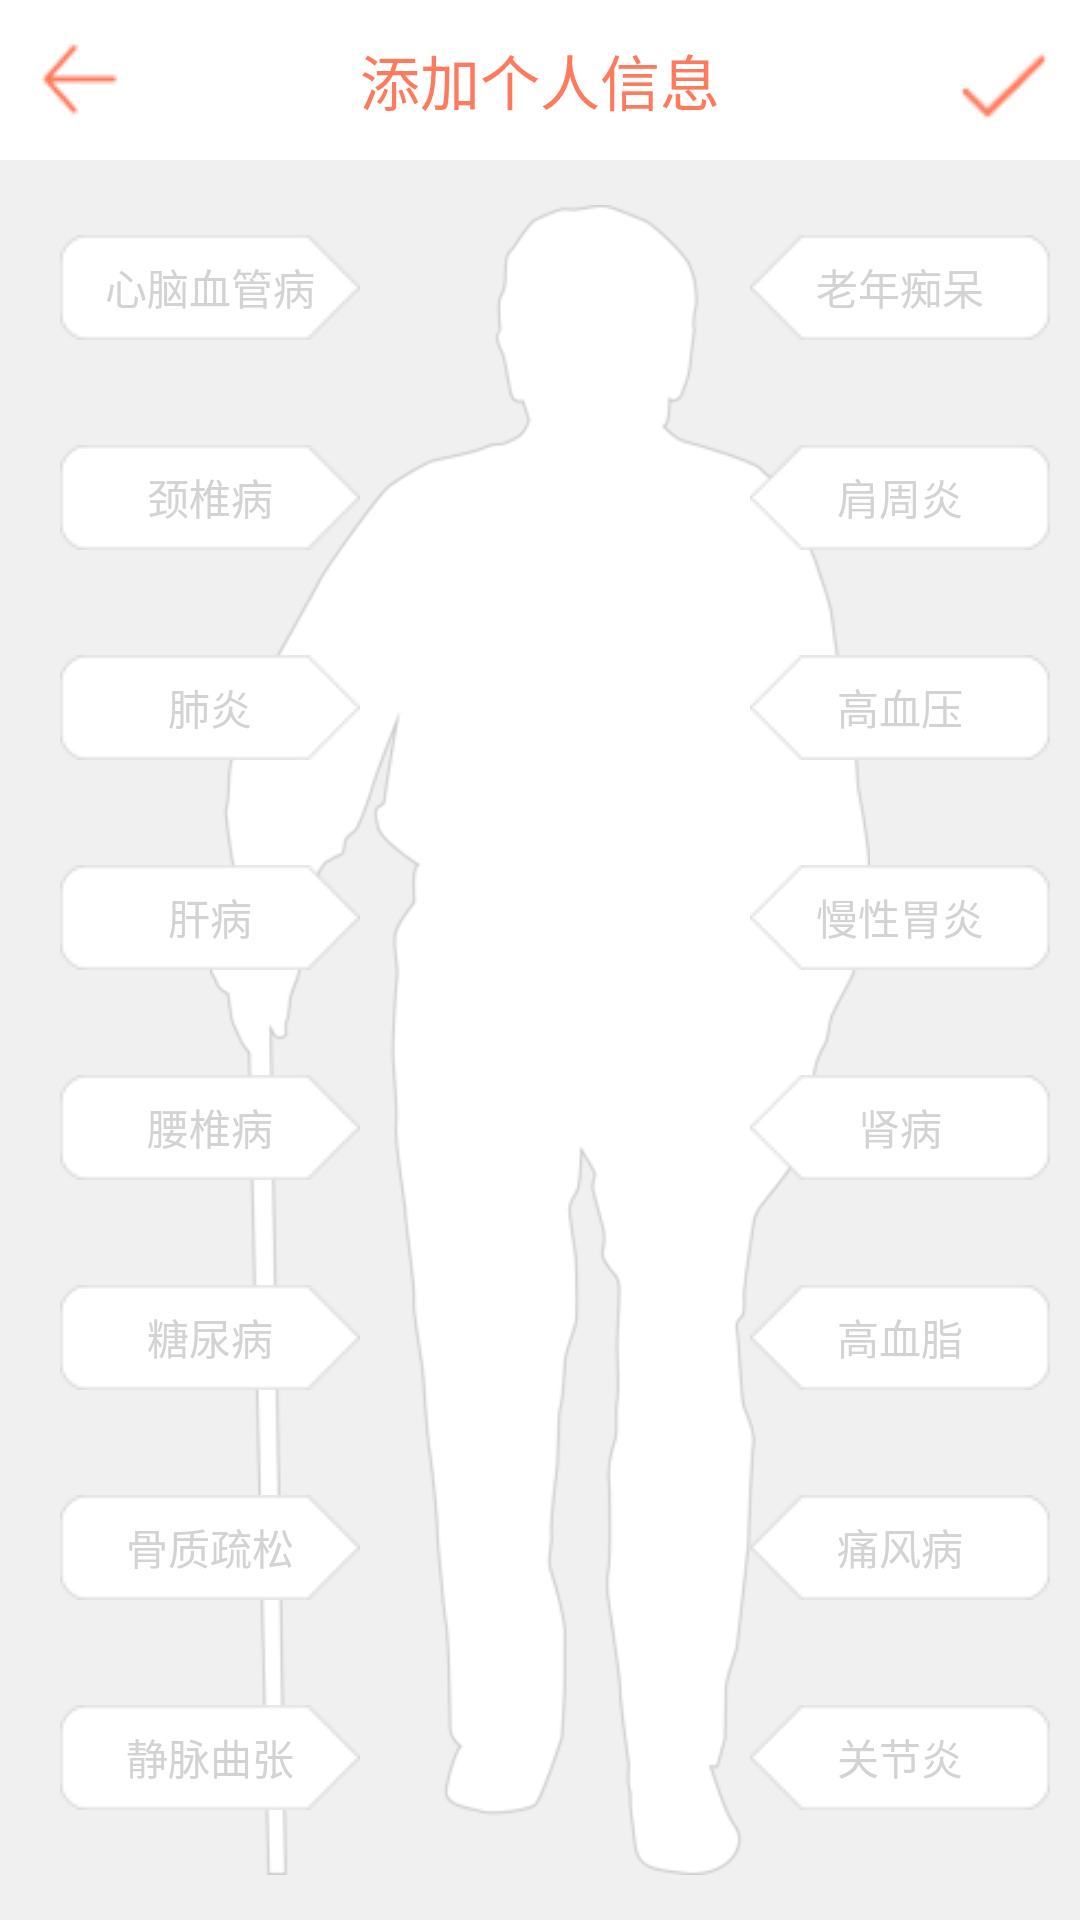

Named icons in this screenshot (1080px×1920px) and their centers, (x=x, y=y):
duigou: (x=1003, y=86)
zuo: (x=80, y=79)
